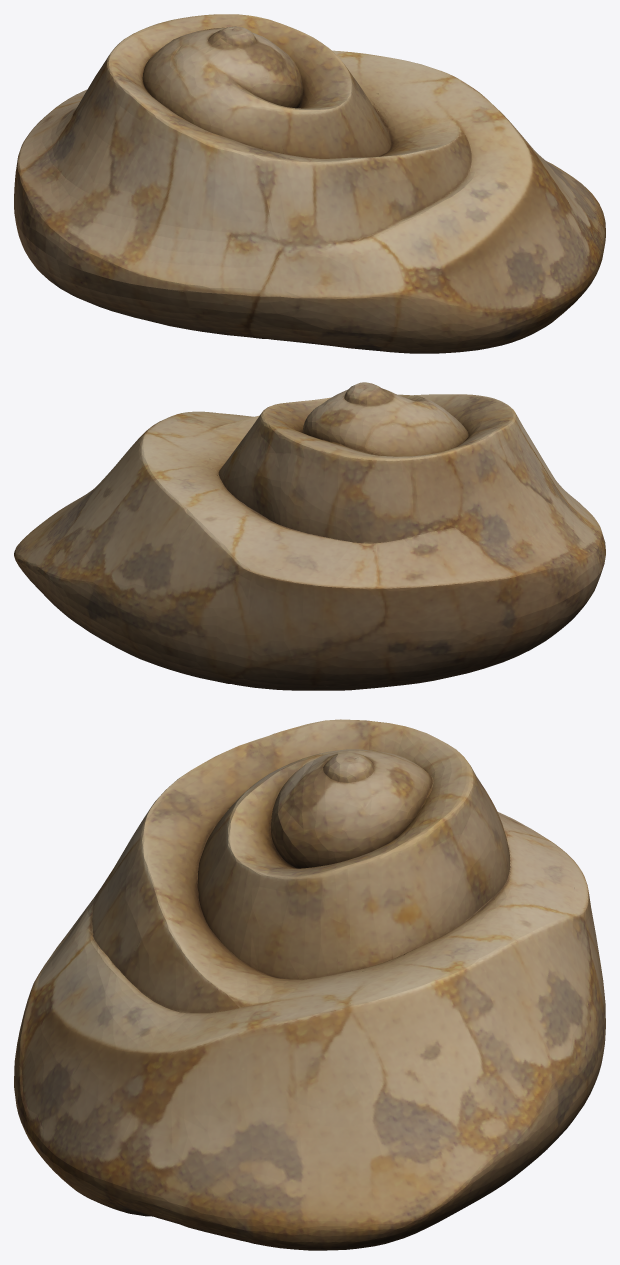
3 renders of one model, top to bottom at view 1: azimuth 30°, elevation 25°; view 2: azimuth 150°, elevation 25°; view 3: azimuth 270°, elevation 25°, orthographic. The views are drawn at different scales.
Parts seen in each view (by area): view 1: world; view 2: world; view 3: world.
Boxes of the visible parts, left/top/right/bottom form: world: left=14, top=14, right=605, bottom=353; world: left=14, top=382, right=605, bottom=690; world: left=14, top=719, right=605, bottom=1250.
Bounding box in the file's own units: 0.9844 × 0.4598 × 0.7726.
Materials: 1 (1 with a texture image).
